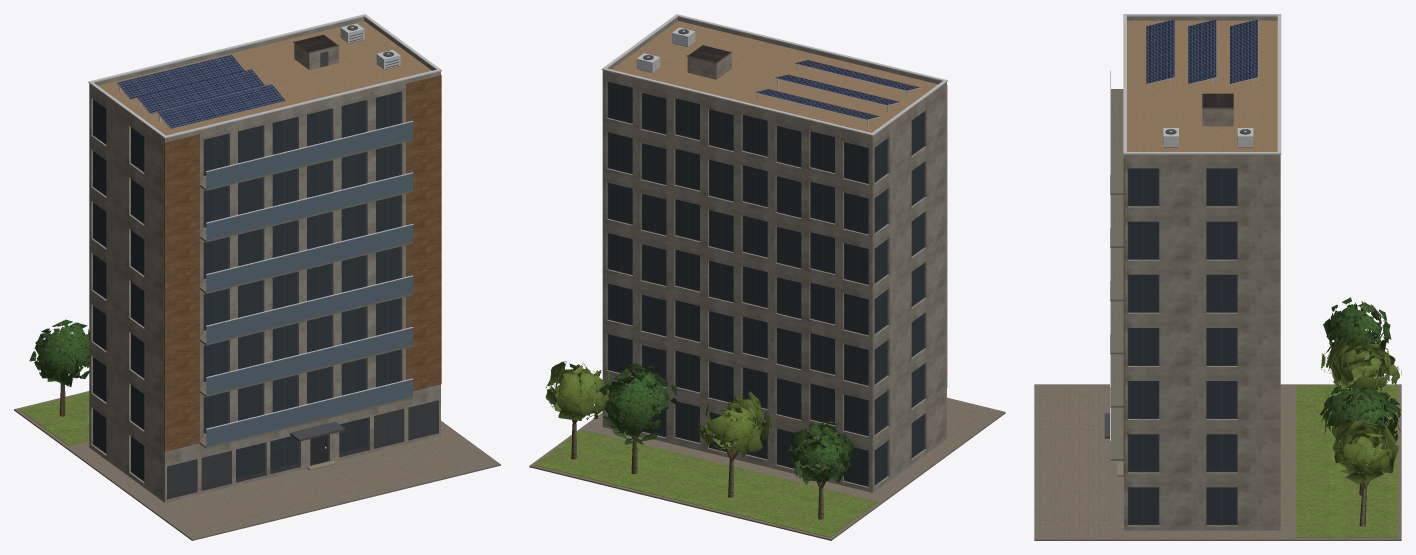
File: modern_midrise.glb
The picture shows the model from 3 angles, left to right: view 1: azimuth 30°, elevation 25°; view 2: azimuth 150°, elevation 25°; view 3: azimuth 270°, elevation 25°; orthographic projection. The views are drawn at different scales.
Visible parts, largest first — view 1: modern_midrise_body, modern_midrise_foliage; view 2: modern_midrise_body, modern_midrise_foliage; view 3: modern_midrise_body, modern_midrise_foliage.
Part boxes in pixels (<box>): modern_midrise_body: <box>14,14,500,540</box>; modern_midrise_foliage: <box>29,319,89,386</box>; modern_midrise_body: <box>529,14,1005,540</box>; modern_midrise_foliage: <box>545,361,856,484</box>; modern_midrise_body: <box>1034,14,1401,540</box>; modern_midrise_foliage: <box>1320,297,1401,485</box>.
Size of the model in its own units: 0.94 by 1.11 by 0.94.
Materials: 24 (14 with a texture image).
